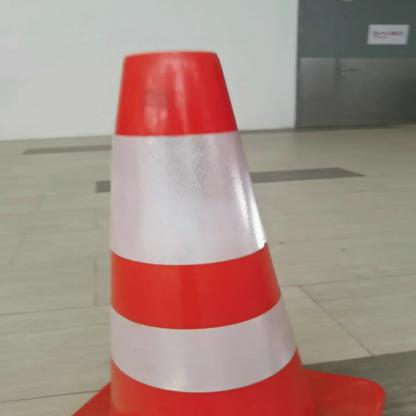cone: (27, 41, 400, 415)
